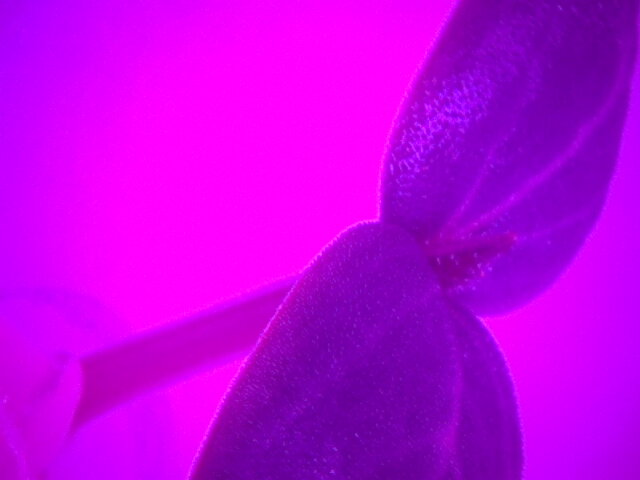seedling: (183, 6, 639, 467)
